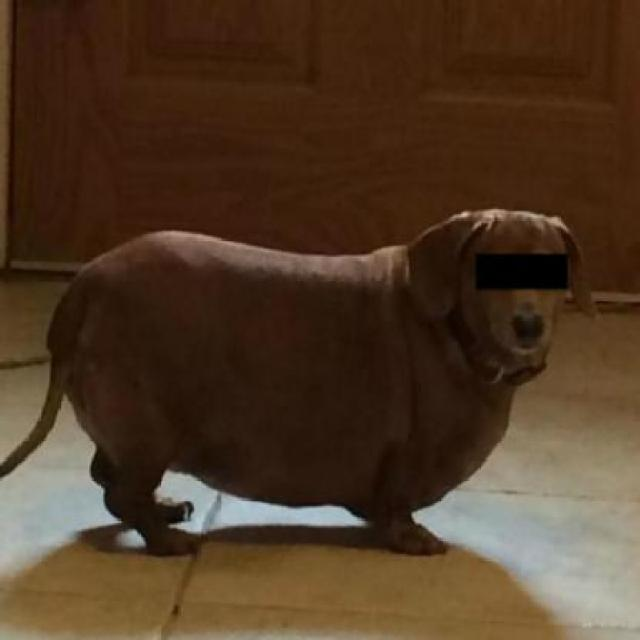Dog: (0, 200, 586, 558)
